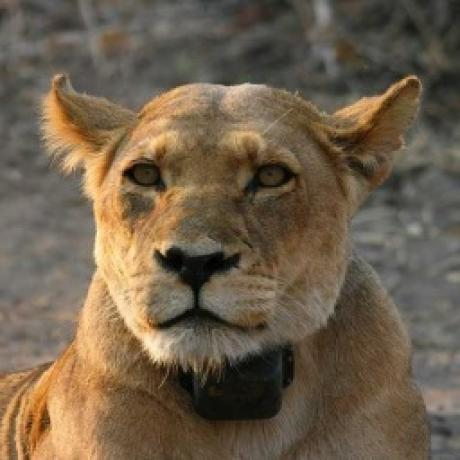Lion: (0, 66, 429, 459)
